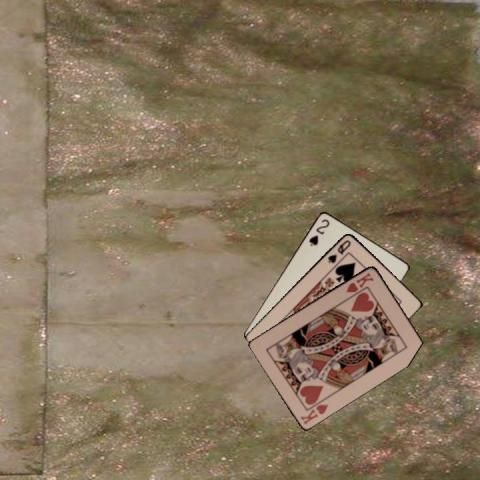2s: (306, 216, 331, 247)
Kh: (298, 401, 330, 426), (344, 269, 376, 293)
Qs: (324, 237, 352, 264)
